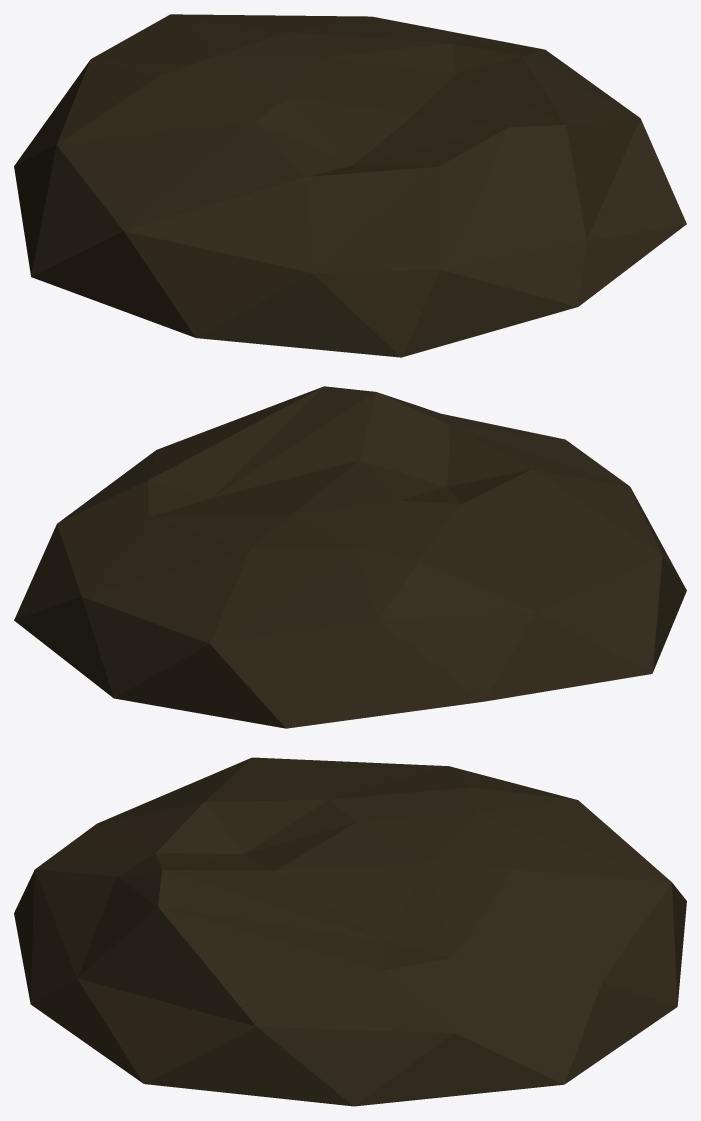
The model's file is lowPoly_rockOne.fbx.
3 views of the same model, one above another, from view 1: azimuth 30°, elevation 25°; view 2: azimuth 150°, elevation 25°; view 3: azimuth 270°, elevation 25° (orthographic). The views are drawn at different scales.
Parts seen in each view (by area): view 1: rockTwo; view 2: rockTwo; view 3: rockTwo.
Boxes of the visible parts, x1,y1,x2,y2 form: rockTwo: (14,14,686,357); rockTwo: (14,386,686,728); rockTwo: (14,757,686,1106).
Size of the model in its own units: 1.29 by 0.2731 by 1.26.
